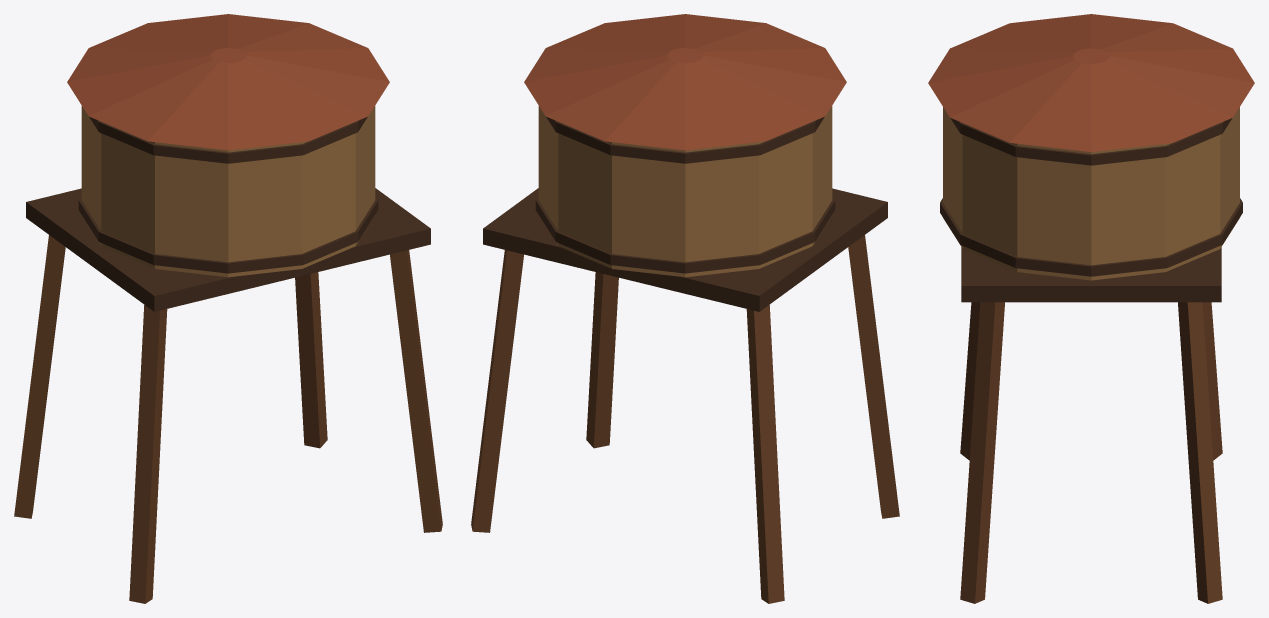
Rendered from Desert_WaterTowerGate_Simple.glb.
3 views of the same model, side by side, from view 1: azimuth 30°, elevation 25°; view 2: azimuth 150°, elevation 25°; view 3: azimuth 270°, elevation 25° (orthographic).
Visible parts, largest first — view 1: Desert_WaterTowerGate_Simple; view 2: Desert_WaterTowerGate_Simple; view 3: Desert_WaterTowerGate_Simple.
Part boxes in pixels (bbox=[...]): Desert_WaterTowerGate_Simple: bbox=[14, 14, 442, 603]; Desert_WaterTowerGate_Simple: bbox=[471, 14, 899, 603]; Desert_WaterTowerGate_Simple: bbox=[928, 14, 1254, 603].
Size of the model in its own units: 4.93 by 7.01 by 4.4.
